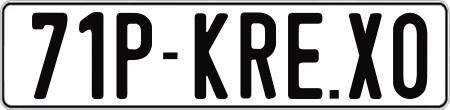0: (391, 11, 428, 100)
1: (79, 11, 109, 100)
7: (30, 10, 69, 98)
E: (288, 12, 325, 103)
K: (195, 13, 229, 99)
P: (116, 13, 152, 99)
R: (238, 9, 273, 101)
X: (346, 11, 381, 99)
